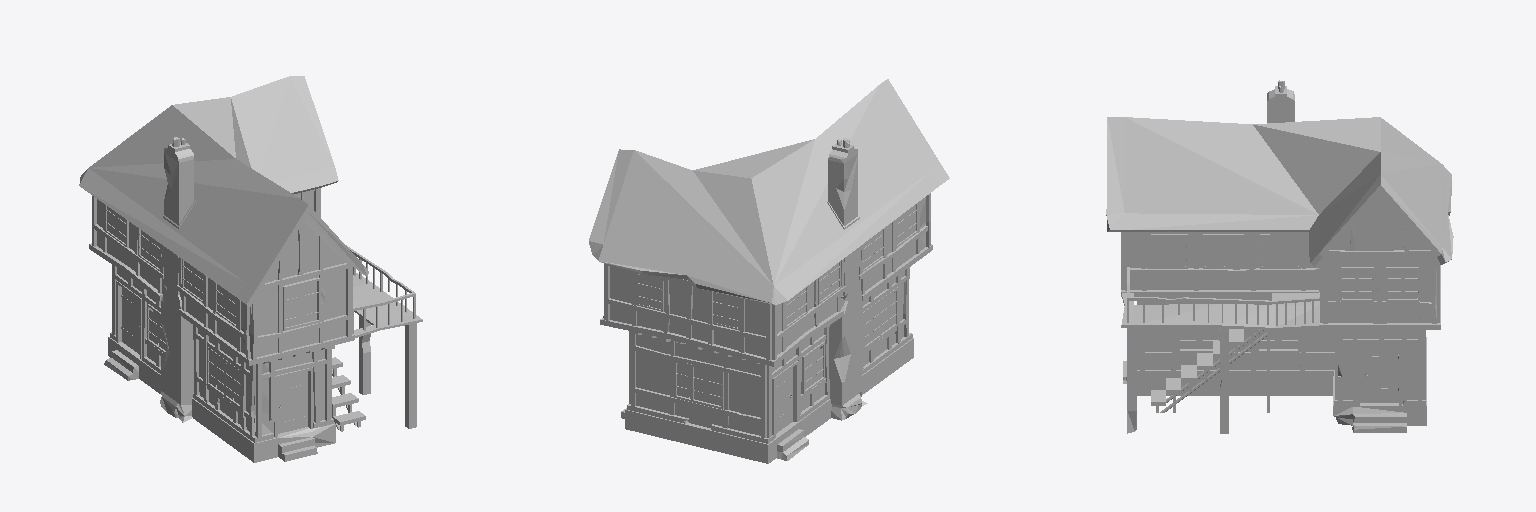
File: Casa5.obj
3 views of the same model, side by side, from view 1: azimuth 30°, elevation 25°; view 2: azimuth 150°, elevation 25°; view 3: azimuth 270°, elevation 25° (orthographic).
Visible parts, largest first — view 1: Tudor_House_Main, Chimney, Window_Shutters, Window_Door_Framing, Door_Wood, Balcony_Stairs; view 2: Tudor_House_Main, Chimney, Window_Shutters, Window_Door_Framing, Door_Wood; view 3: Tudor_House_Main, Window_Shutters, Balcony_Stairs, Window_Door_Framing, Door_Wood, Chimney.
Part boxes in pixels (bbox=[...]): Tudor_House_Main: bbox=[79, 76, 422, 462]; Chimney: bbox=[160, 137, 195, 422]; Window_Shutters: bbox=[106, 206, 319, 404]; Window_Door_Framing: bbox=[105, 195, 320, 437]; Door_Wood: bbox=[121, 288, 307, 433]; Balcony_Stairs: bbox=[332, 345, 365, 431]; Tudor_House_Main: bbox=[589, 79, 949, 463]; Chimney: bbox=[827, 138, 867, 420]; Window_Shutters: bbox=[636, 204, 916, 405]; Window_Door_Framing: bbox=[636, 203, 917, 438]; Door_Wood: bbox=[776, 368, 792, 433]; Tudor_House_Main: bbox=[1106, 117, 1453, 433]; Window_Shutters: bbox=[1149, 237, 1418, 348]; Balcony_Stairs: bbox=[1151, 293, 1274, 412]; Window_Door_Framing: bbox=[1147, 234, 1418, 405]; Door_Wood: bbox=[1361, 347, 1398, 402]; Chimney: bbox=[1267, 80, 1294, 122].
Size of the model in its own units: 3.18 by 4.19 by 4.84.